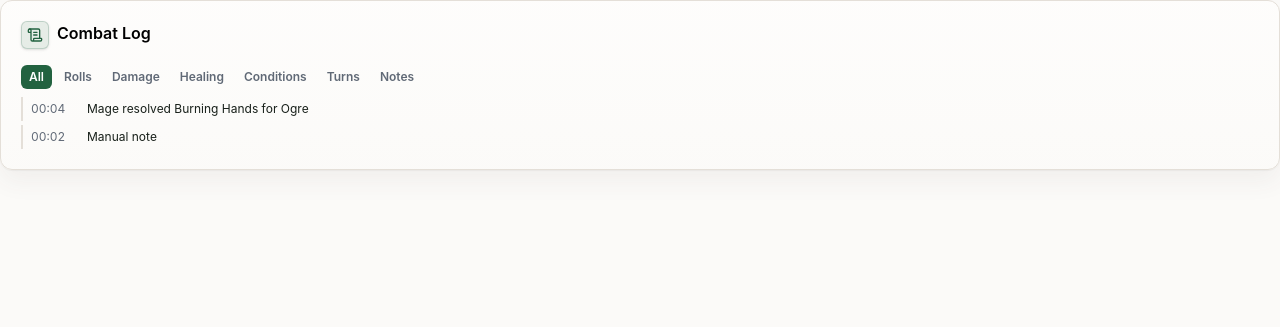
Test: CombatLog › filters persisted history without flattening resolution details
Click the heading "Mage resolved Burning Hands for Ogre" at {"x": 198, "y": 108}, box left=87, top=101, right=309, bottom=116
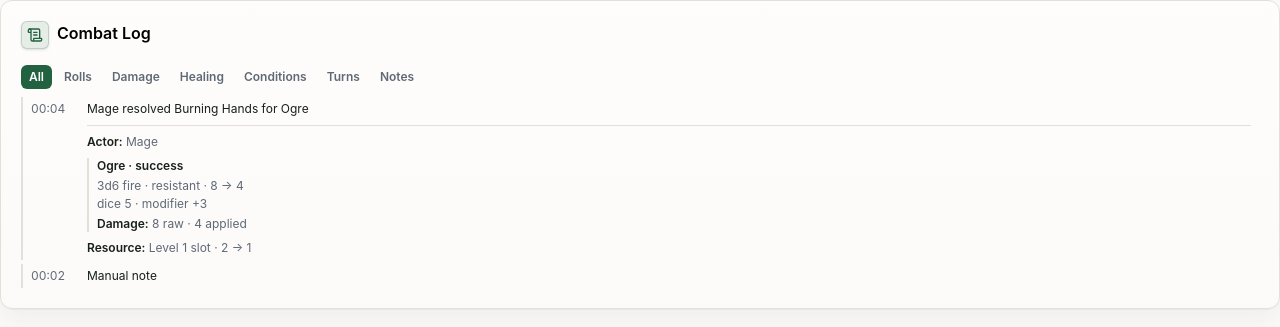
Expected: the text "8 raw · 4 applied" is shown, left=152, top=216, right=247, bottom=231
Expected: the text "dice 5 · modifier +3" is shown, left=97, top=196, right=207, bottom=211
Expected: the text "Level 1 slot · 2 → 1" is shown, left=149, top=240, right=251, bottom=255
Click the button "Damage" at {"x": 136, "y": 77}, box left=104, top=65, right=168, bottom=89
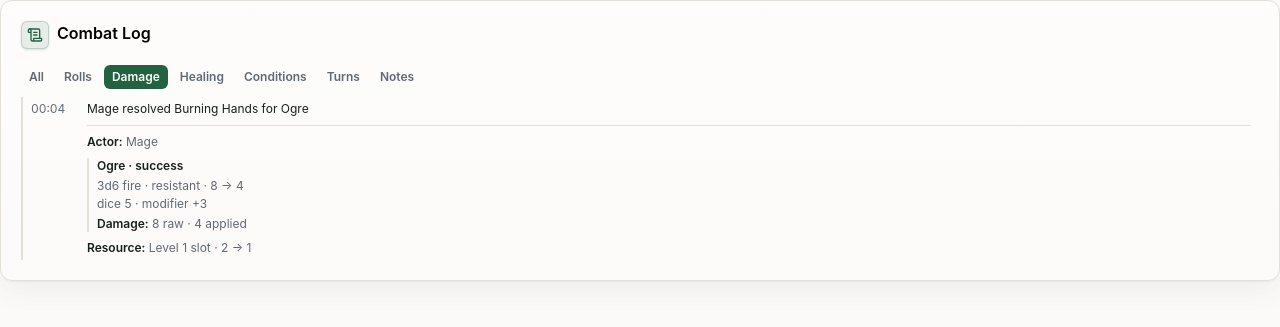
Expected: the heading "Mage resolved Burning Hands for Ogre" is shown, left=87, top=101, right=309, bottom=116
Expected: the heading "Manual note" is gone
